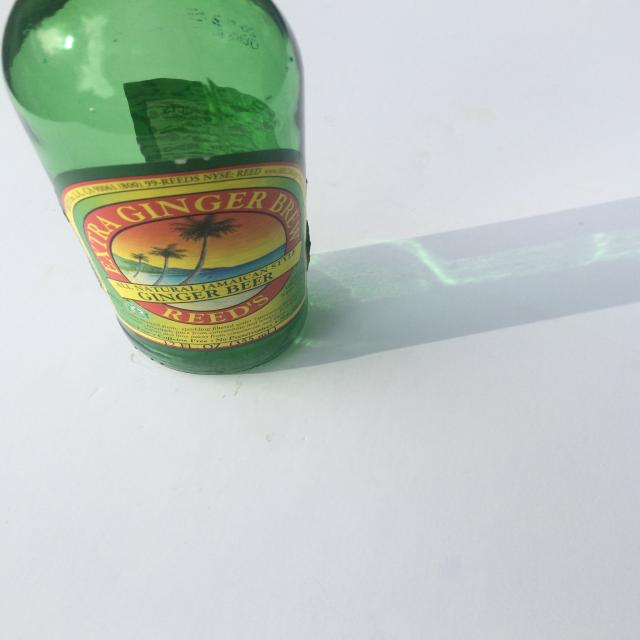glass: (1, 0, 311, 375)
